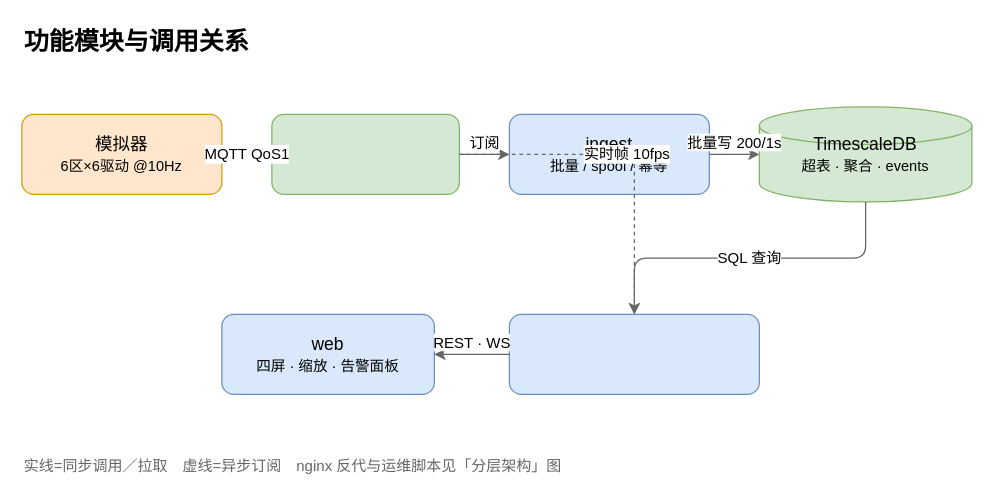
The diagram is 994 pixels wide and 503 high, and some of its shapes have lost their labels. Here are the shapes that lost their labels. From the top down, the centre of each, then its label:
At [365,153]: "Mosquitto QoS1 · 1884".
At [633,353]: "api REST · WS · 告警引擎 · LTTB".
